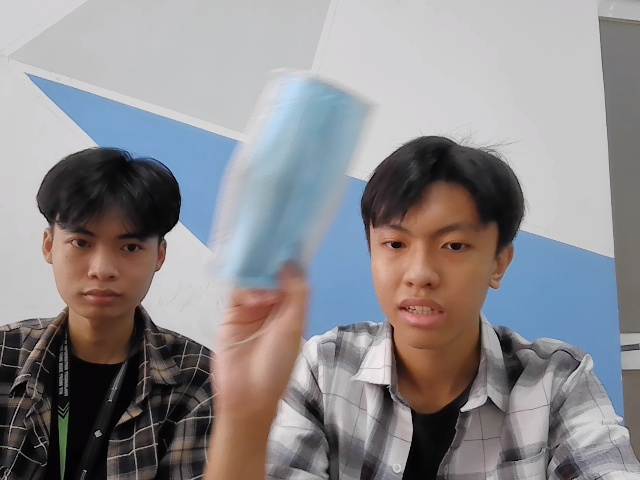human: (366, 134, 524, 336), (41, 152, 182, 321)
mask: (203, 64, 380, 302)
